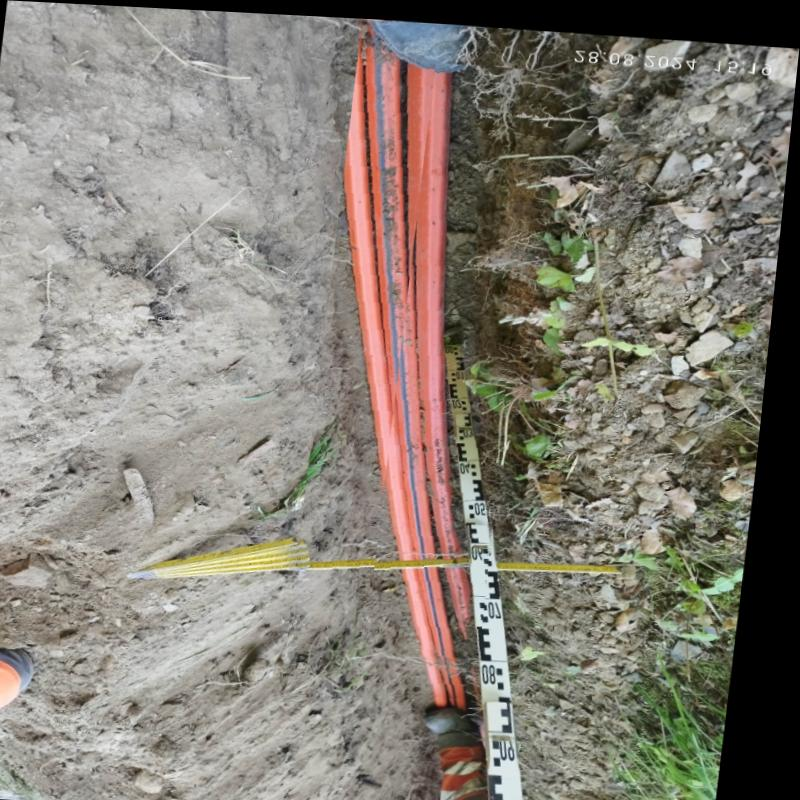Orang-Speednetrohrchen: (351, 16, 479, 692), (420, 59, 496, 645)
